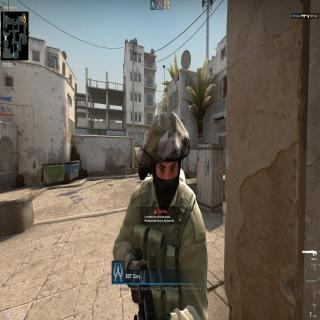CT-Head: (131, 104, 200, 200)
